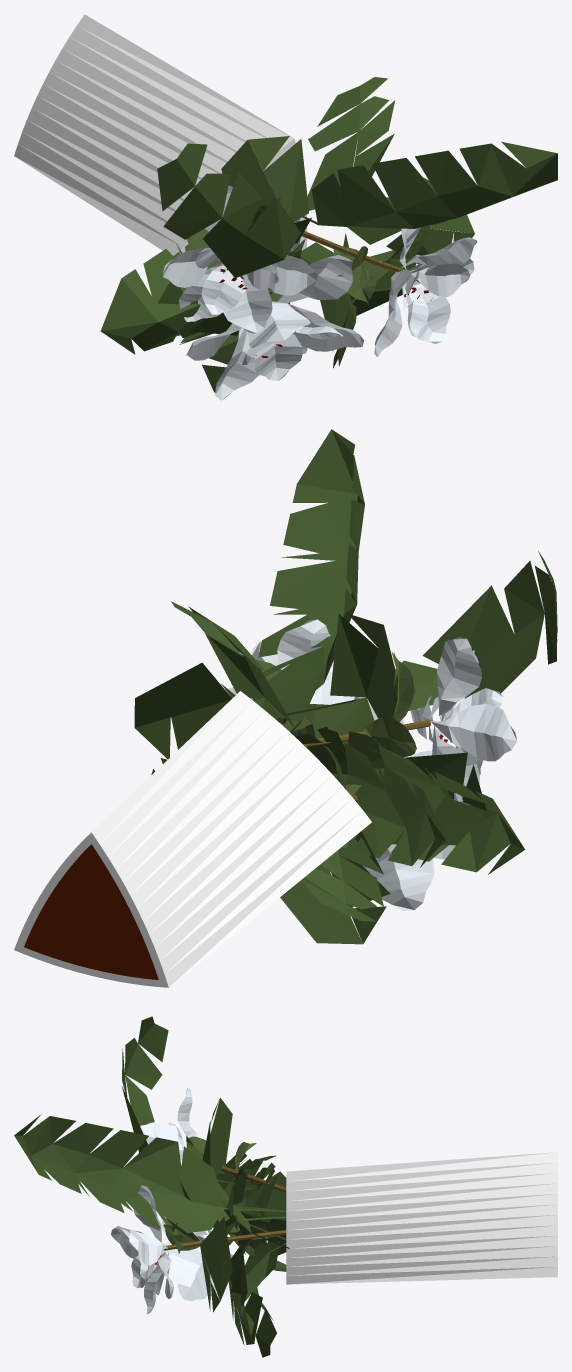
3 renders of one model, top to bottom at view 1: azimuth 30°, elevation 25°; view 2: azimuth 150°, elevation 25°; view 3: azimuth 270°, elevation 25°, orthographic. The views are drawn at different scales.
Parts seen in each view (by area): view 1: vase; view 2: vase; view 3: vase.
Part boxes in pixels (<box>): vase: <box>14,14,557,400</box>; vase: <box>14,429,557,987</box>; vase: <box>14,1016,557,1357</box>.
Bounding box in the file's own units: 17.01 × 14.69 × 27.9.
